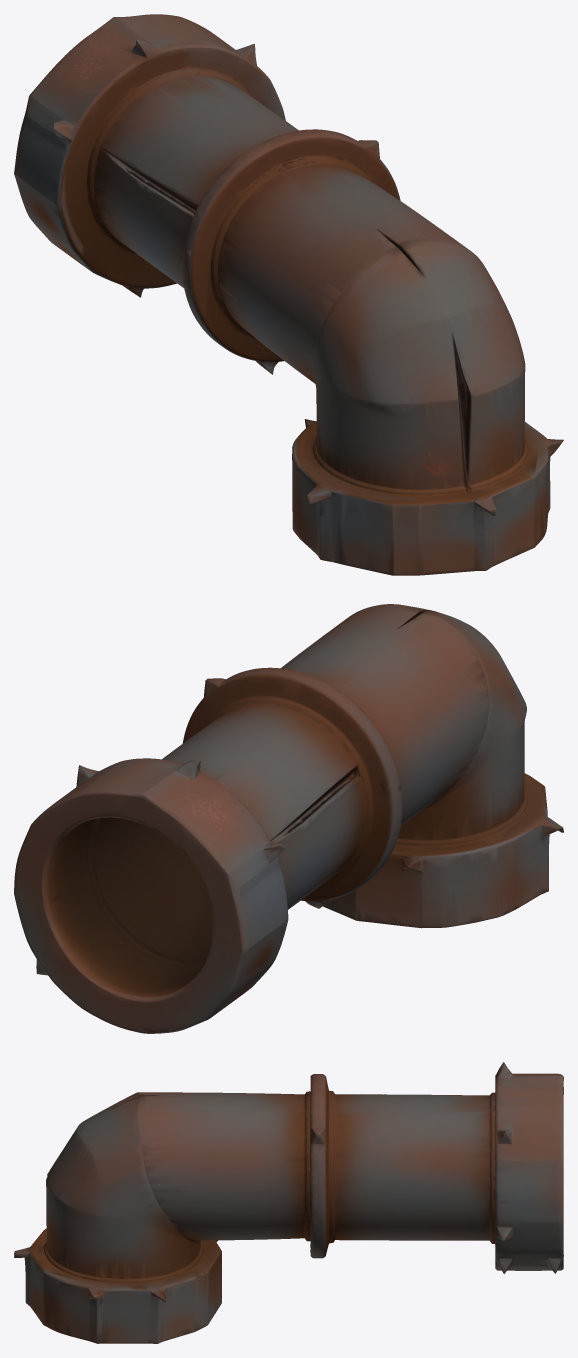
3 renders of one model, top to bottom at view 1: azimuth 30°, elevation 25°; view 2: azimuth 150°, elevation 25°; view 3: azimuth 270°, elevation 25°, orthographic. The views are drawn at different scales.
Parts seen in each view (by area): view 1: node_0; view 2: node_0; view 3: node_0.
Boxes of the visible parts, left/top/right/bottom form: node_0: left=14, top=14, right=563, bottom=575; node_0: left=14, top=604, right=563, bottom=1033; node_0: left=14, top=1062, right=563, bottom=1343.
Size of the model in its own units: 43.86 by 50.99 by 111.
1 material, 1 textured.
